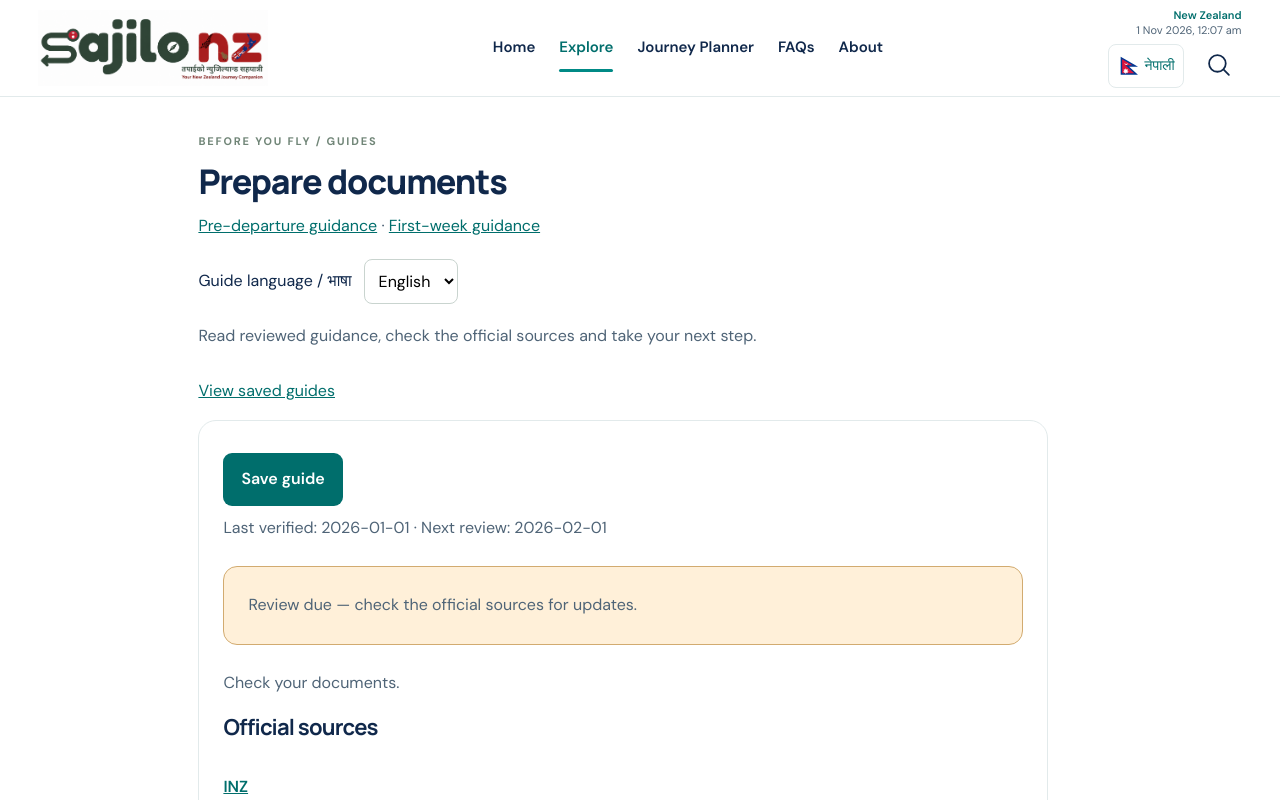
Test: filtering never withdraws unrelated saved content; a complete refresh still does
The width and height of the screenshot is (1280, 800).
Click the button "Save guide".
click(283, 479)  # box [223,453,343,506]
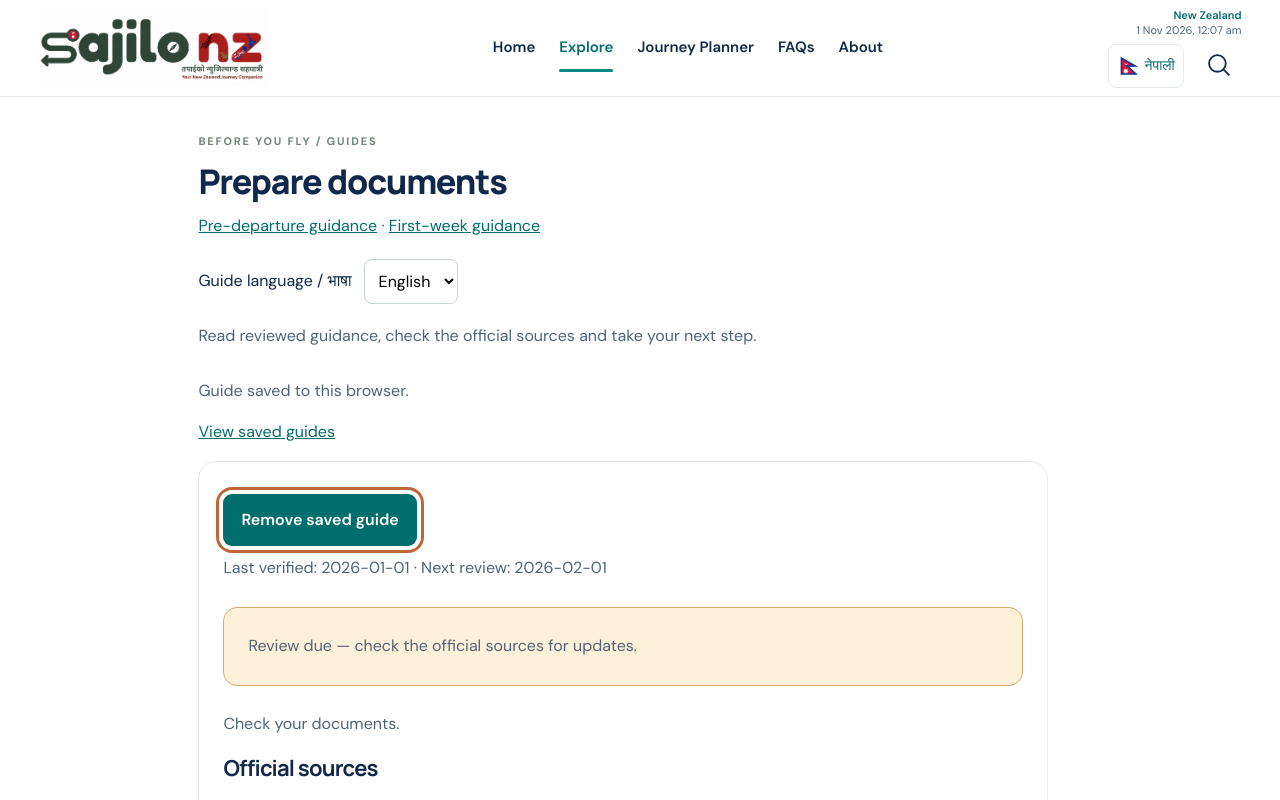
Click the link "View saved guides".
click(267, 431)  # box [198,421,335,442]
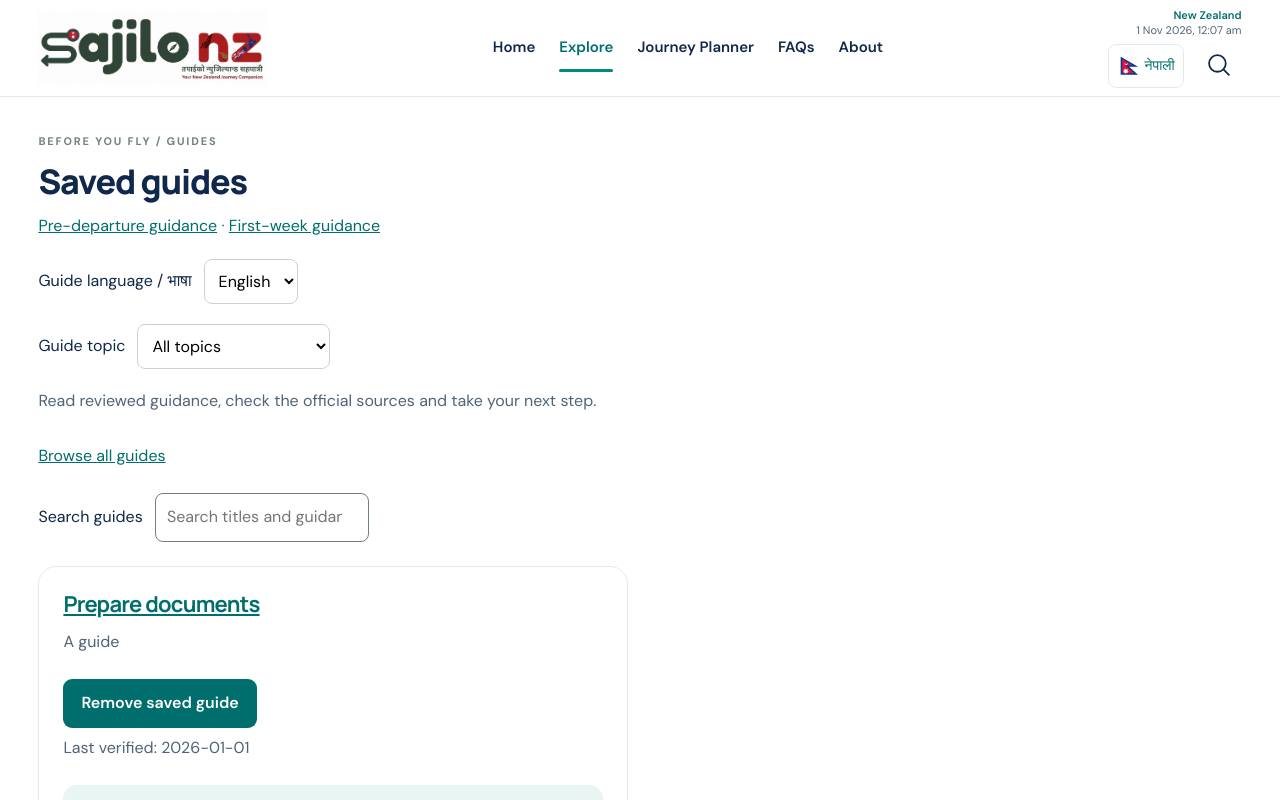
Check: the link "Prepare documents" is shown, box [63,589,260,619]
Select "Packing" in the dropdown labelled "Guide topic" at {"x": 234, "y": 347}, box [137,324,330,369]
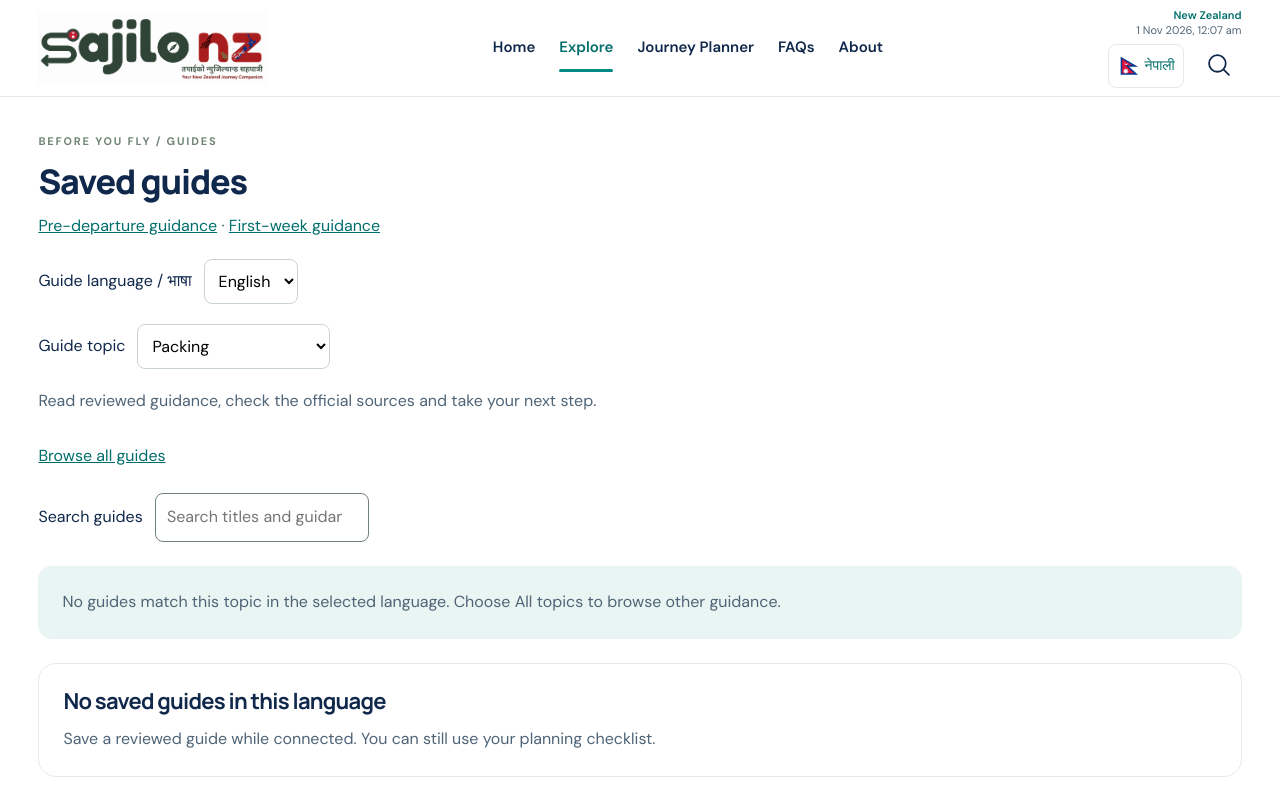
Check: the link "Prepare documents" is gone
Click the link "Browse all guides".
click(102, 455)  # box [38,445,166,466]
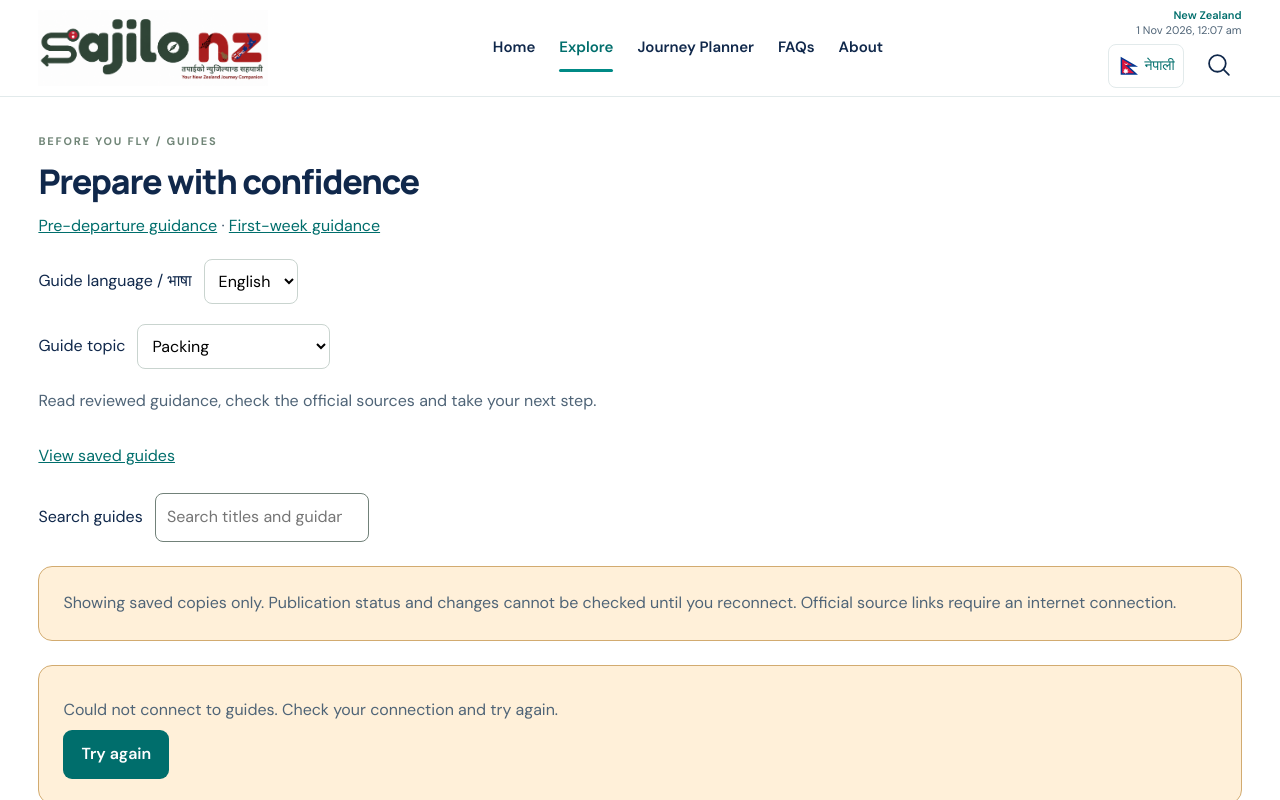
Check: the text "Showing saved copies only" is shown, box [63,592,1176,613]
Select "Documents" in the dropdown labelled "Guide topic" at {"x": 234, "y": 347}, box [137,324,330,369]
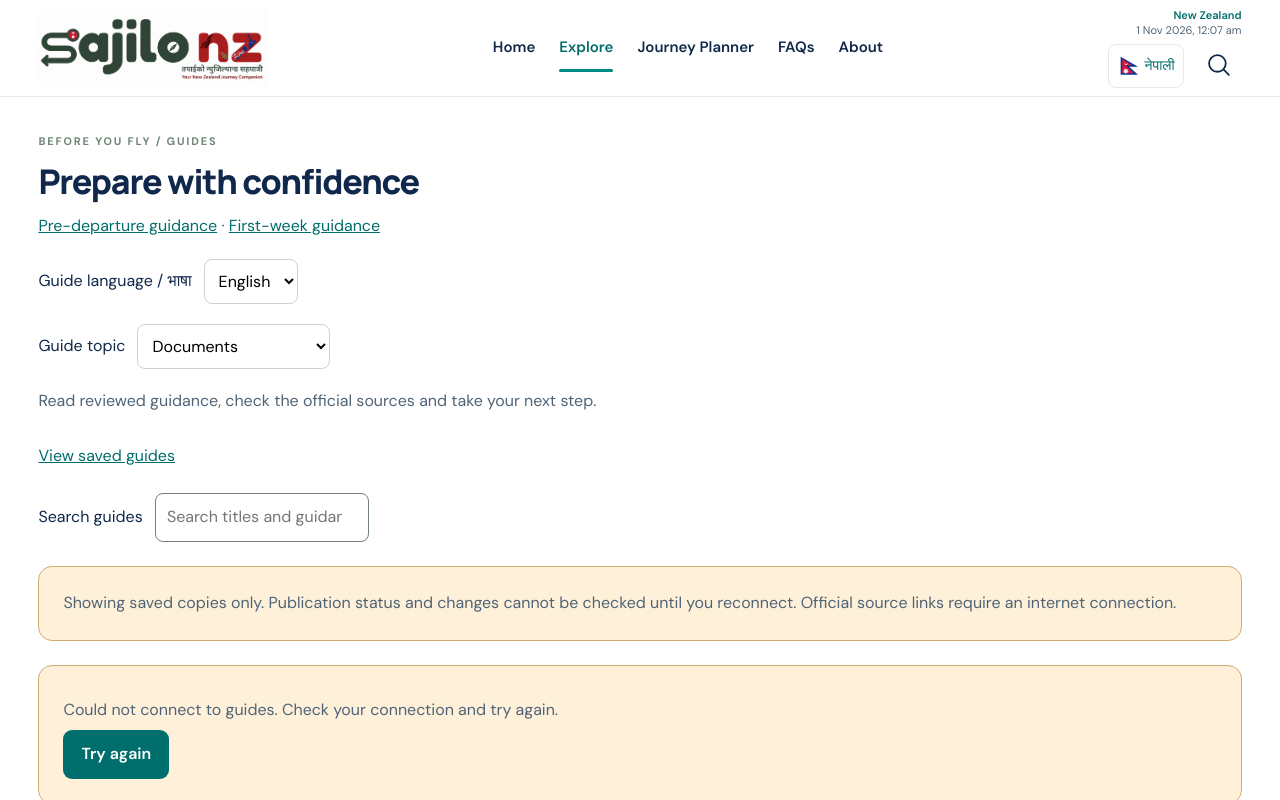
Click the button "Try again".
click(116, 755)  # box [63,730,169,779]
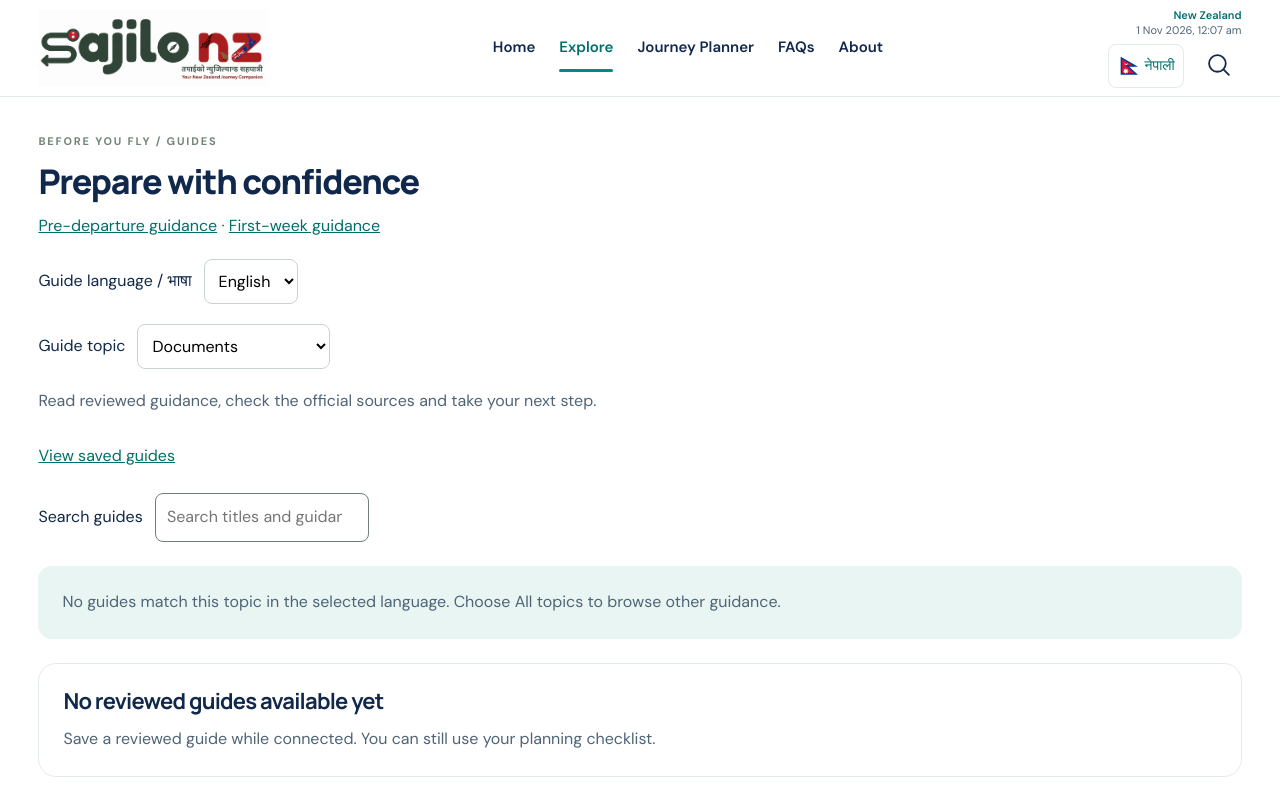
Check: the heading "No reviewed guides available yet" is shown, box [63,686,384,716]
